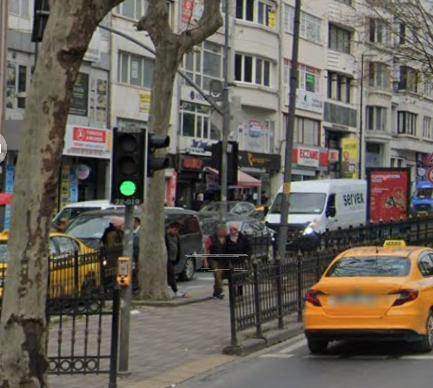greenlight: (107, 122, 153, 211)
